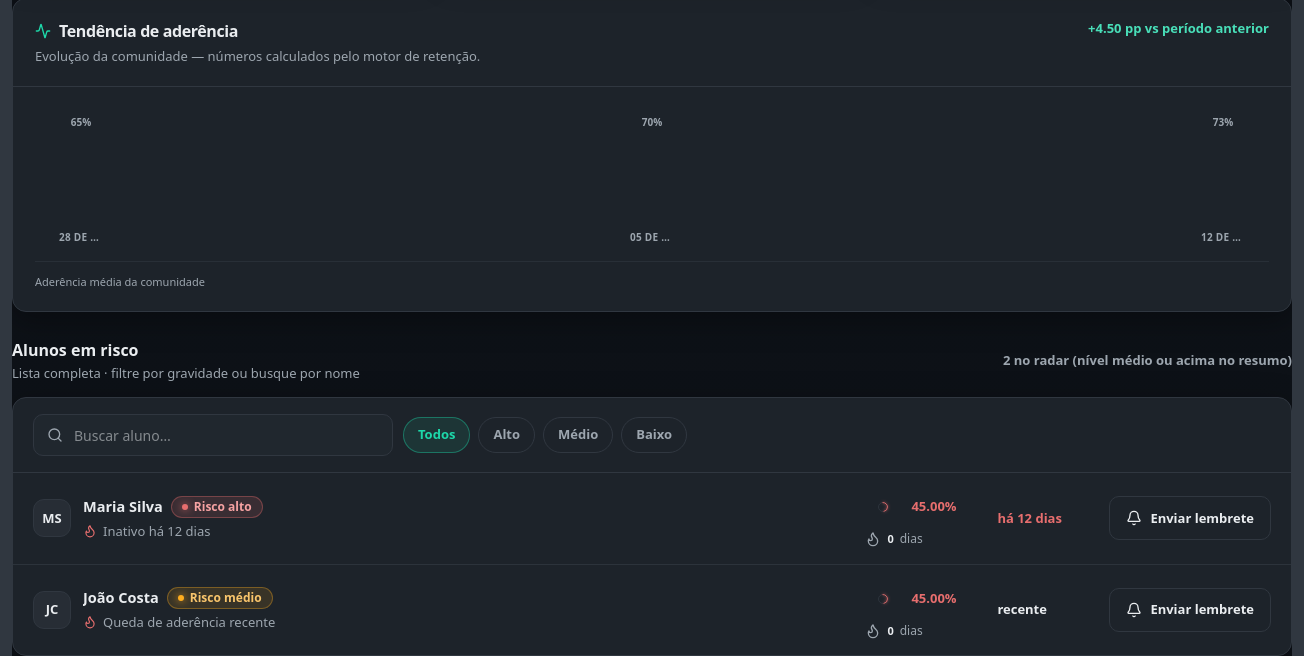
Scenario: RetentionPage › filters by risk level
The image size is (1304, 656).
(page scrolled)
expect the text "Maria Silva" is shown: met, box top-left (83, 496), bottom-right (163, 518)
Step 1. Click the button "Alto" → x=507, y=435, box top-left (478, 417), bottom-right (535, 453)
(page scrolled)
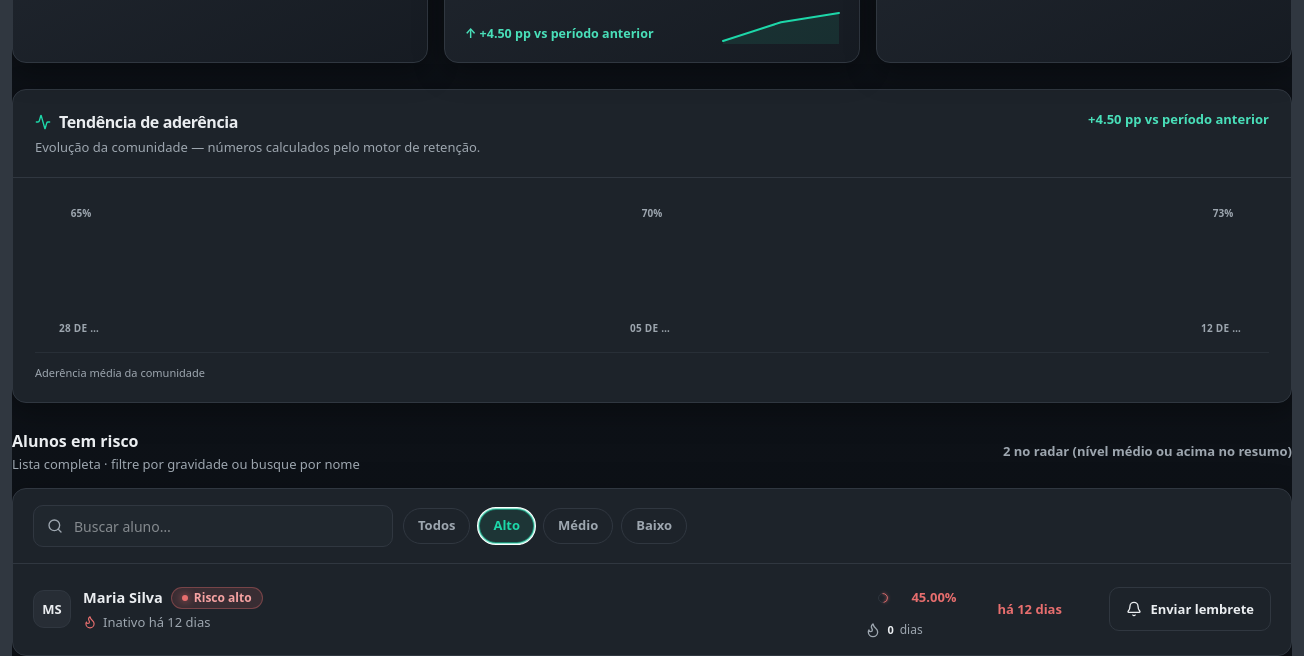
expect the text "Maria Silva" is shown: met, box top-left (83, 587), bottom-right (163, 609)
expect the link "João Costa" is gone: met
